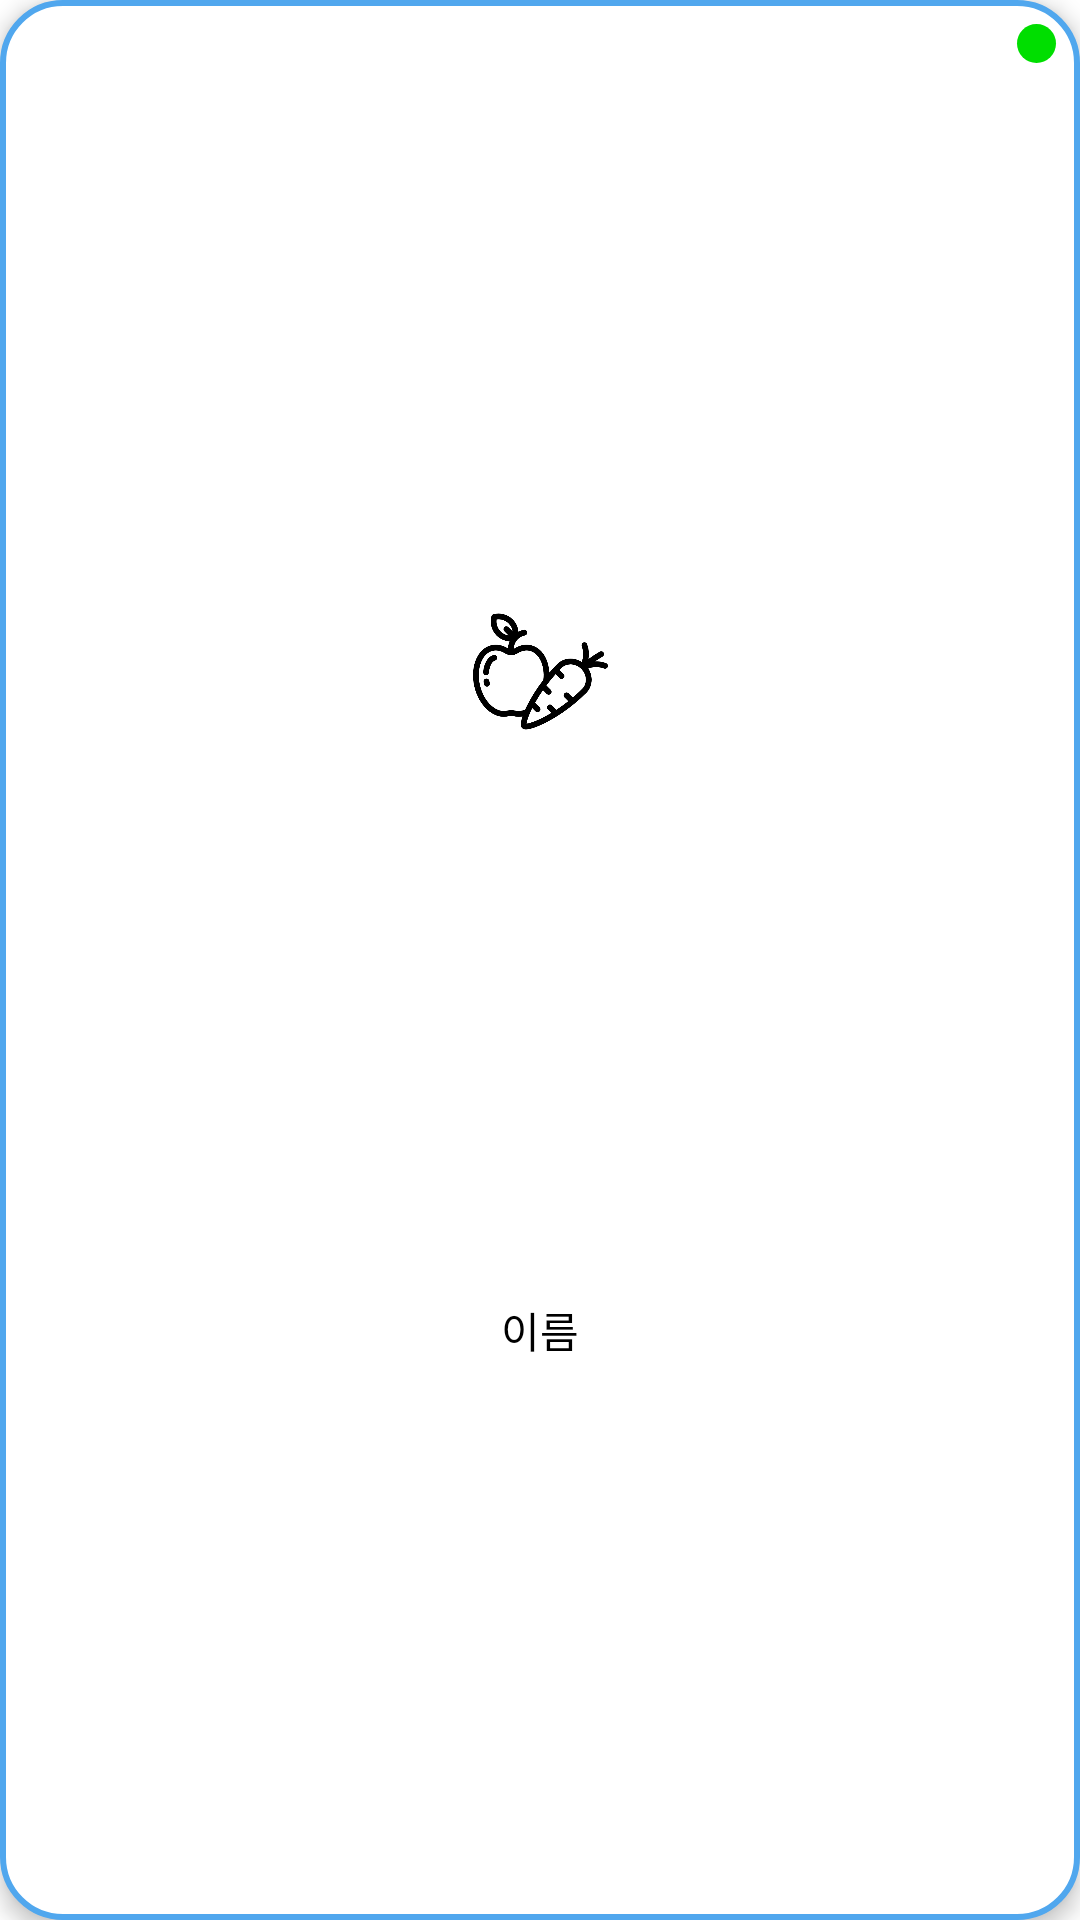

Icons on this 1080×1920 Android screen, each with its box as [left=x1, top=y1, right=x2, bottom=y2]:
pic harvest: [left=473, top=613, right=608, bottom=730]
